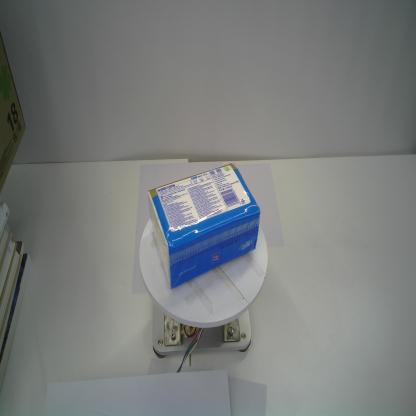Tissue: (147, 161, 261, 290)
